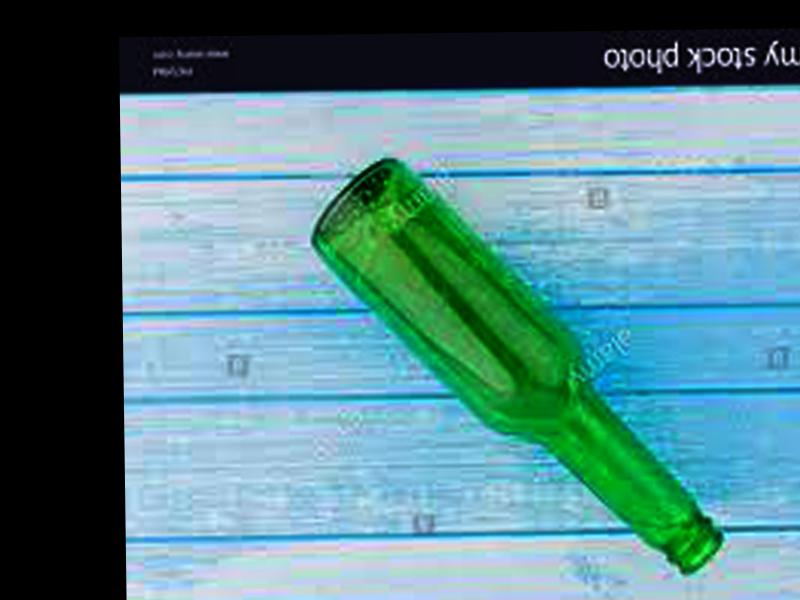Beer: (306, 147, 727, 581)
